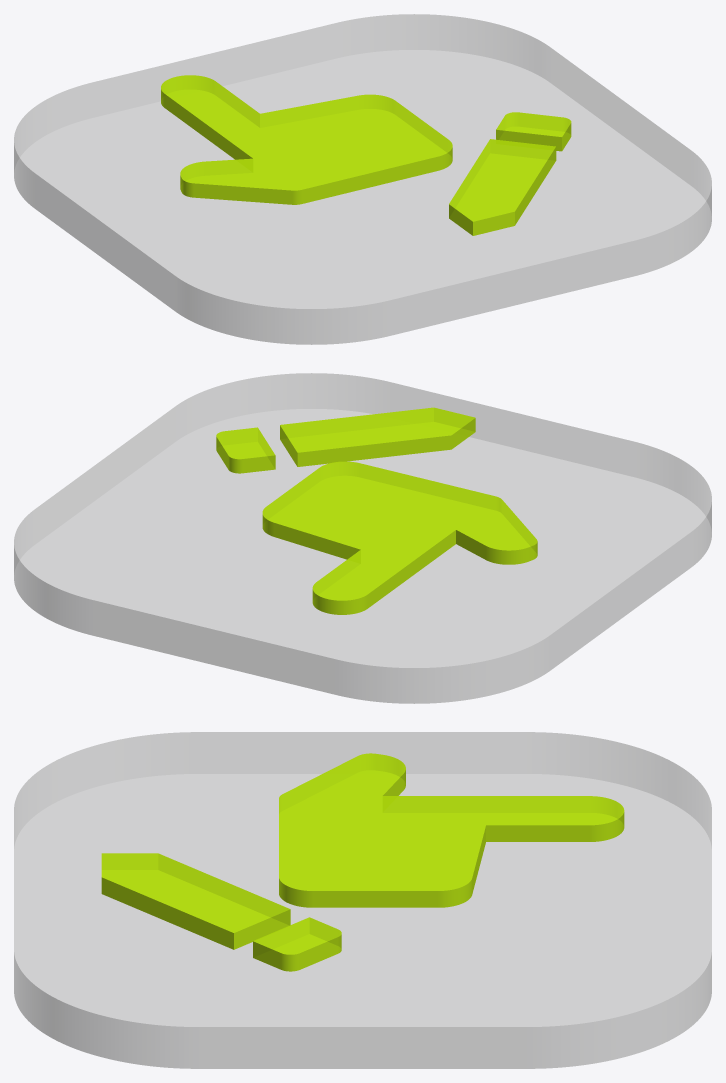
The model's file is Learn Icon.fbx.
3 views of the same model, one above another, from view 1: azimuth 30°, elevation 25°; view 2: azimuth 150°, elevation 25°; view 3: azimuth 270°, elevation 25° (orthographic). The views are drawn at different scales.
Visible parts, largest first — view 1: Rectangle, Path; view 2: Rectangle, Path; view 3: Rectangle, Path.
Part boxes in pixels (left/top/right/bottom): Rectangle: left=14, top=14, right=711, bottom=344; Path: left=161, top=75, right=571, bottom=235; Rectangle: left=14, top=373, right=711, bottom=703; Path: left=216, top=407, right=537, bottom=614; Rectangle: left=14, top=732, right=711, bottom=1068; Path: left=101, top=753, right=624, bottom=971.
Bounding box in the file's own units: 378 × 378 × 40.2.
